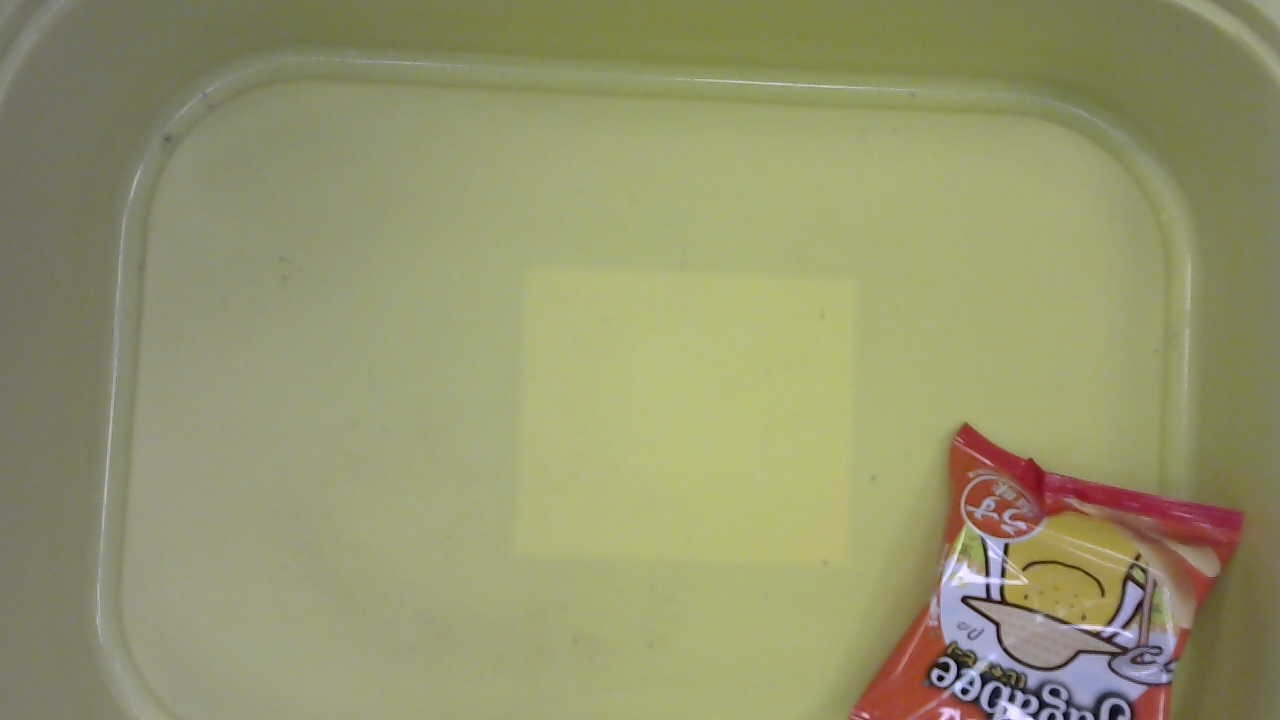JagabeeFarmer: (826, 403, 1280, 720)
